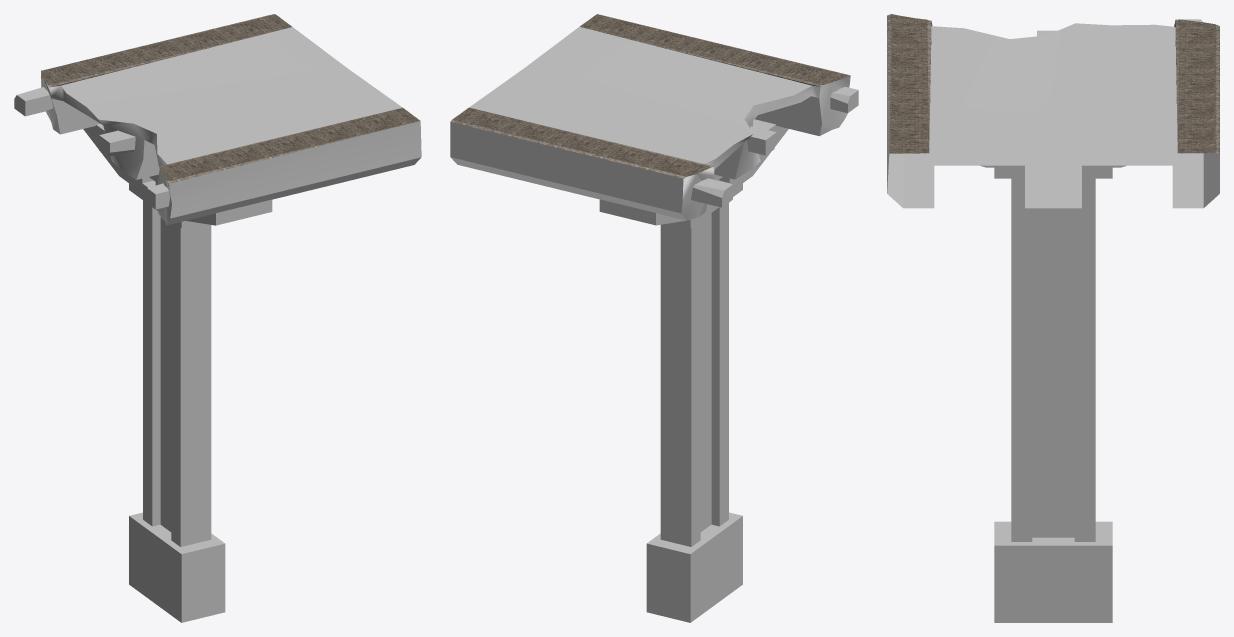
Rendered from overpass4B_LOD1.fbx.
3 renders of one model, left to right at view 1: azimuth 30°, elevation 25°; view 2: azimuth 150°, elevation 25°; view 3: azimuth 270°, elevation 25°, orthographic. The views are drawn at different scales.
Parts seen in each view (by area): view 1: polySurface860; view 2: polySurface860; view 3: polySurface860.
Part boxes in pixels (x1,y1,x2,y2): polySurface860: (14, 14, 421, 622); polySurface860: (450, 14, 858, 622); polySurface860: (887, 14, 1219, 622).
Size of the model in its own units: 15.57 by 27.44 by 15.
